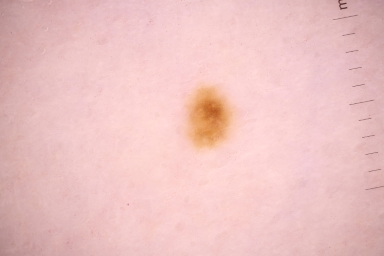seborrheic keratosis: (184, 84, 235, 149)
